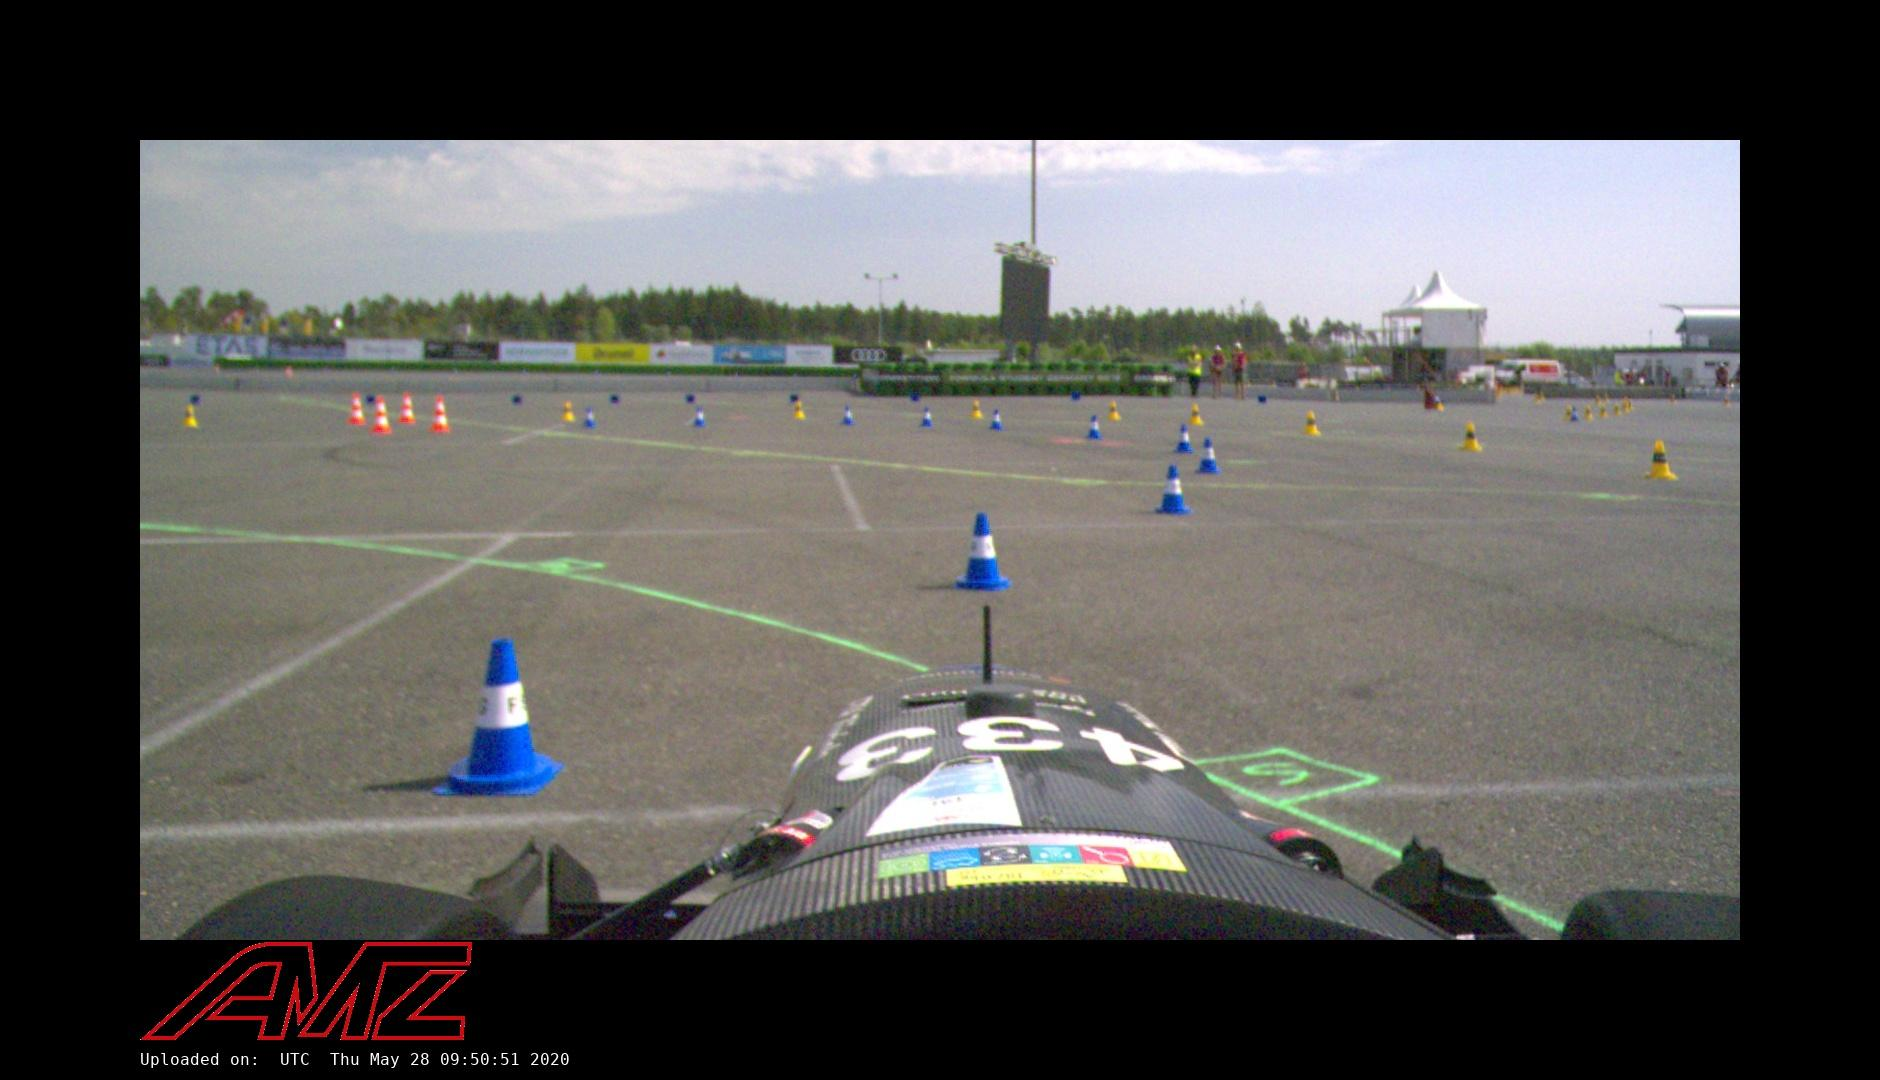blue_cone: (435, 637, 562, 795), (952, 512, 1012, 593), (1154, 465, 1195, 514), (1196, 437, 1221, 474), (1172, 424, 1195, 454), (1084, 414, 1103, 440), (988, 409, 1004, 431), (582, 405, 596, 428), (840, 404, 854, 426), (920, 406, 934, 427), (693, 406, 707, 427), (1570, 407, 1580, 421)
large_orange_cone: (428, 396, 451, 434), (368, 395, 391, 433), (346, 392, 367, 426), (396, 391, 417, 424)
yellow_cone: (1641, 439, 1677, 480), (1458, 422, 1482, 452), (1301, 410, 1321, 436), (182, 404, 198, 428), (1188, 404, 1204, 426), (561, 400, 576, 422), (1106, 401, 1122, 420), (969, 399, 983, 419), (792, 400, 805, 420), (1564, 405, 1574, 420), (1583, 405, 1593, 420)
